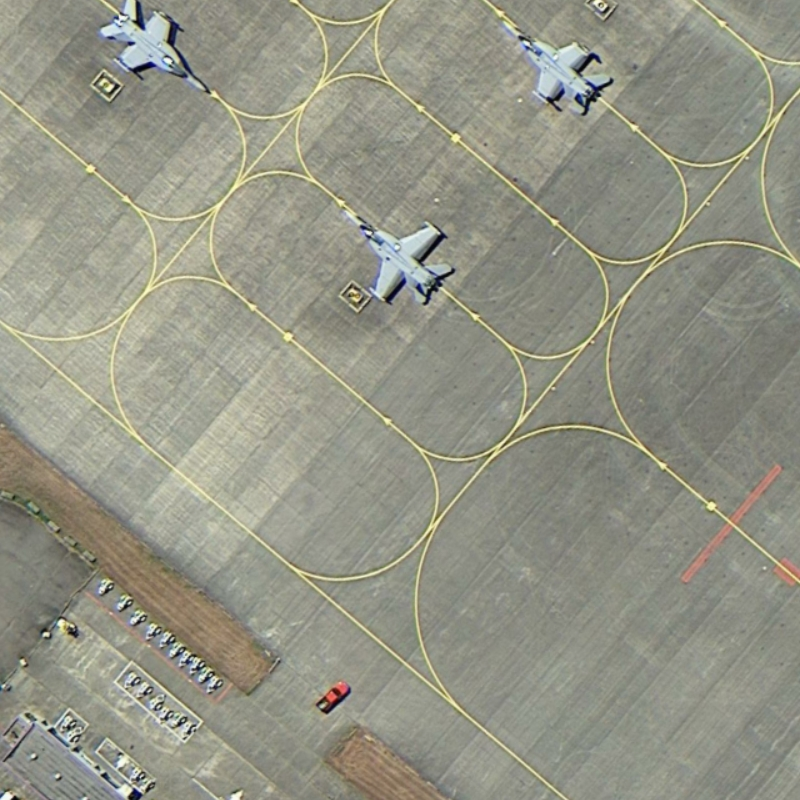A16: (332, 192, 460, 313), (489, 10, 619, 127), (87, 1, 205, 91)
